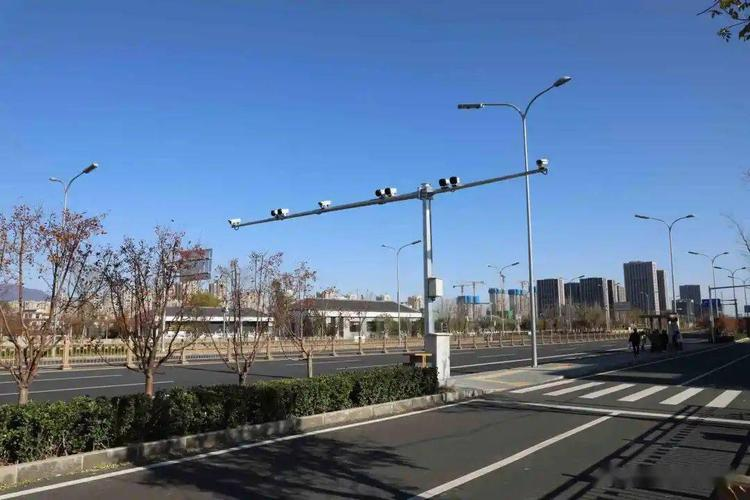camera: (536, 158, 548, 170), (374, 189, 386, 200), (439, 178, 450, 189), (386, 187, 397, 197), (318, 202, 330, 211), (451, 176, 460, 188), (228, 219, 241, 227), (279, 208, 288, 218), (272, 210, 281, 219)
person: (630, 329, 640, 356)
